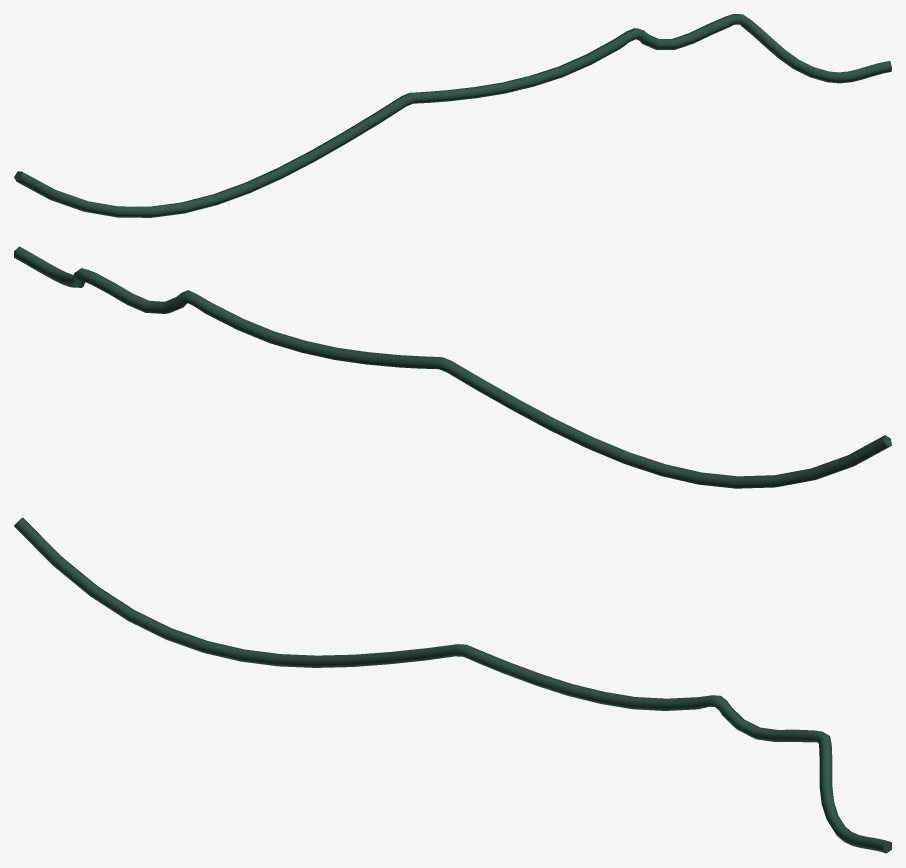
File: CableHanging_Thick_02.glb
The picture shows the model from 3 angles, top to bottom: view 1: azimuth 30°, elevation 25°; view 2: azimuth 150°, elevation 25°; view 3: azimuth 330°, elevation 25°; orthographic projection. The views are drawn at different scales.
Parts seen in each view (by area): view 1: CableHanging_Thick_02.001; view 2: CableHanging_Thick_02.001; view 3: CableHanging_Thick_02.001.
Part boxes in pixels (left/top/right/bottom): CableHanging_Thick_02.001: left=14, top=14, right=891, bottom=217; CableHanging_Thick_02.001: left=14, top=246, right=891, bottom=488; CableHanging_Thick_02.001: left=14, top=517, right=891, bottom=853.
Bounding box in the file's own units: 4.19 × 0.3996 × 0.4817.
